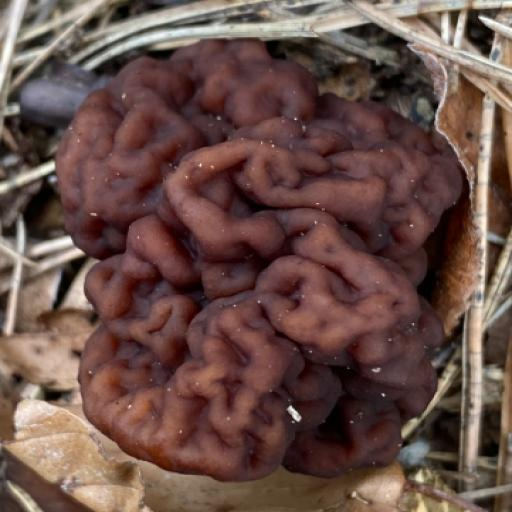mushroom: (34, 37, 464, 488)
